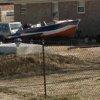Boat: (14, 16, 84, 45)
